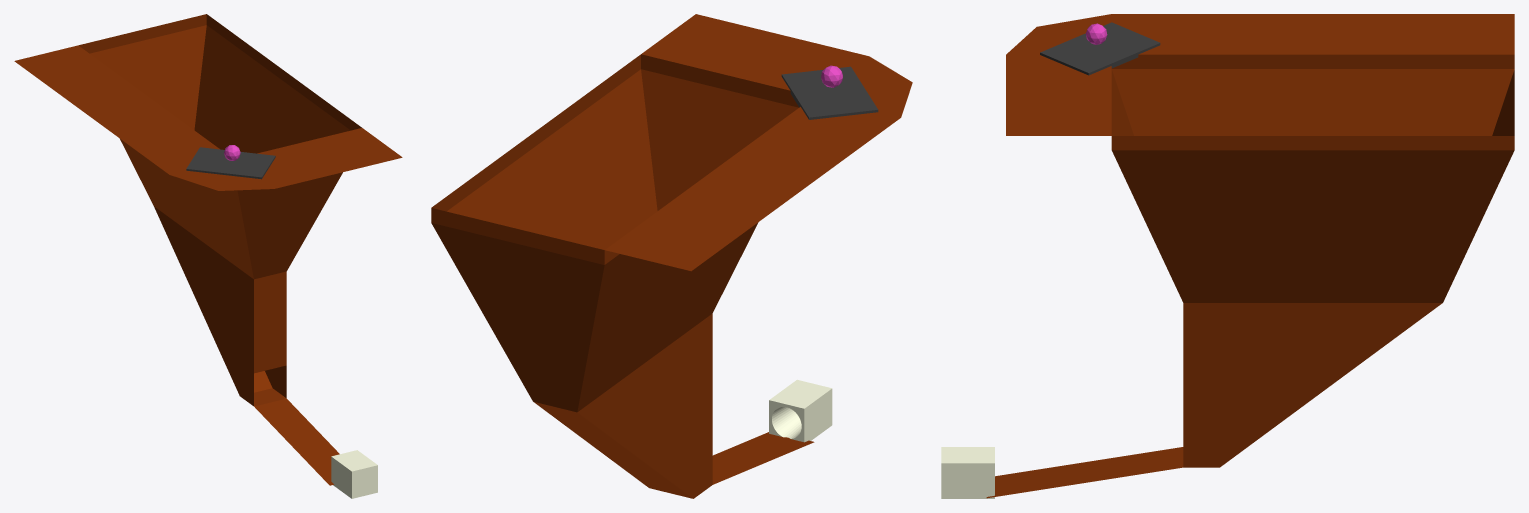
Rendered from boilerplate_level_17.glb.
3 views of the same model, side by side, from view 1: azimuth 30°, elevation 25°; view 2: azimuth 150°, elevation 25°; view 3: azimuth 270°, elevation 25° (orthographic). The views are drawn at different scales.
Parts seen in each view (by area): view 1: Plane, Start, Cup; view 2: Plane, Cup, Start; view 3: Plane, Start, Cup.
Part boxes in pixels (<box>): Plane: <box>14,14,402,485</box>; Start: <box>186,147,275,179</box>; Cup: <box>331,450,377,498</box>; Plane: <box>431,14,912,498</box>; Cup: <box>769,379,832,442</box>; Start: <box>781,66,878,119</box>; Plane: <box>986,14,1514,498</box>; Start: <box>1040,22,1160,75</box>; Cup: <box>941,447,994,498</box>.
Size of the model in its own units: 22.43 by 36.06 by 44.58.
